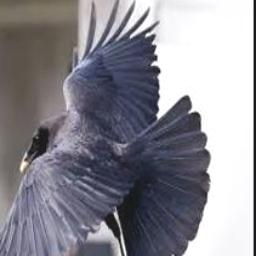Crow: (0, 0, 210, 256)
